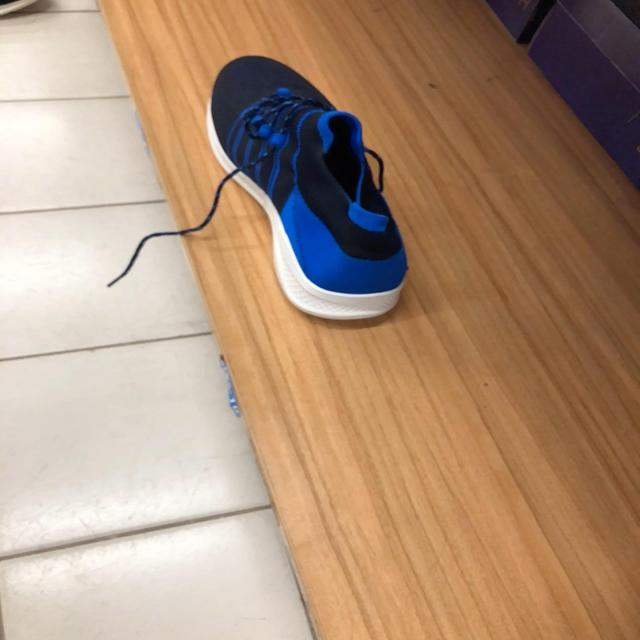shoe: (208, 55, 409, 326)
